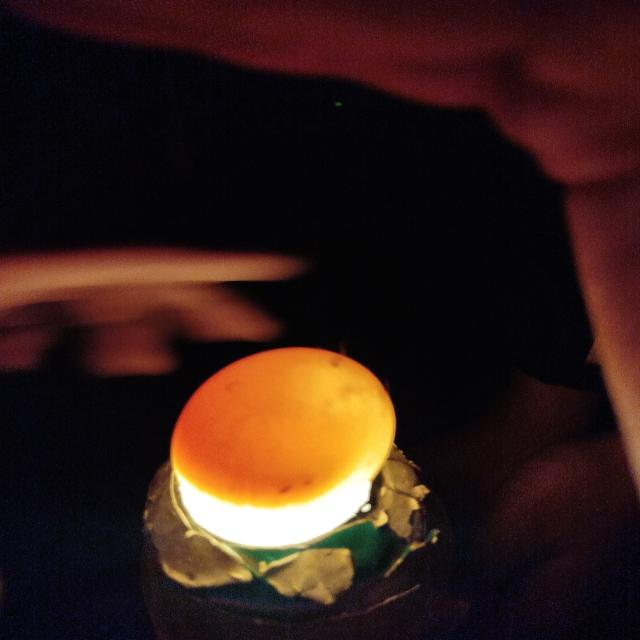Gema Quebrada: (172, 373, 333, 499)
